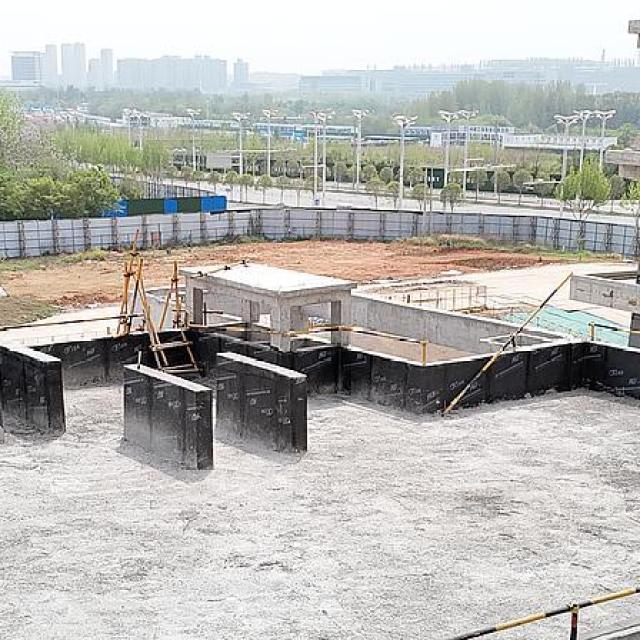edge_guardrail: (443, 271, 574, 418), (444, 583, 640, 640), (284, 325, 429, 366), (0, 312, 147, 332), (587, 320, 640, 340), (190, 324, 280, 335)
